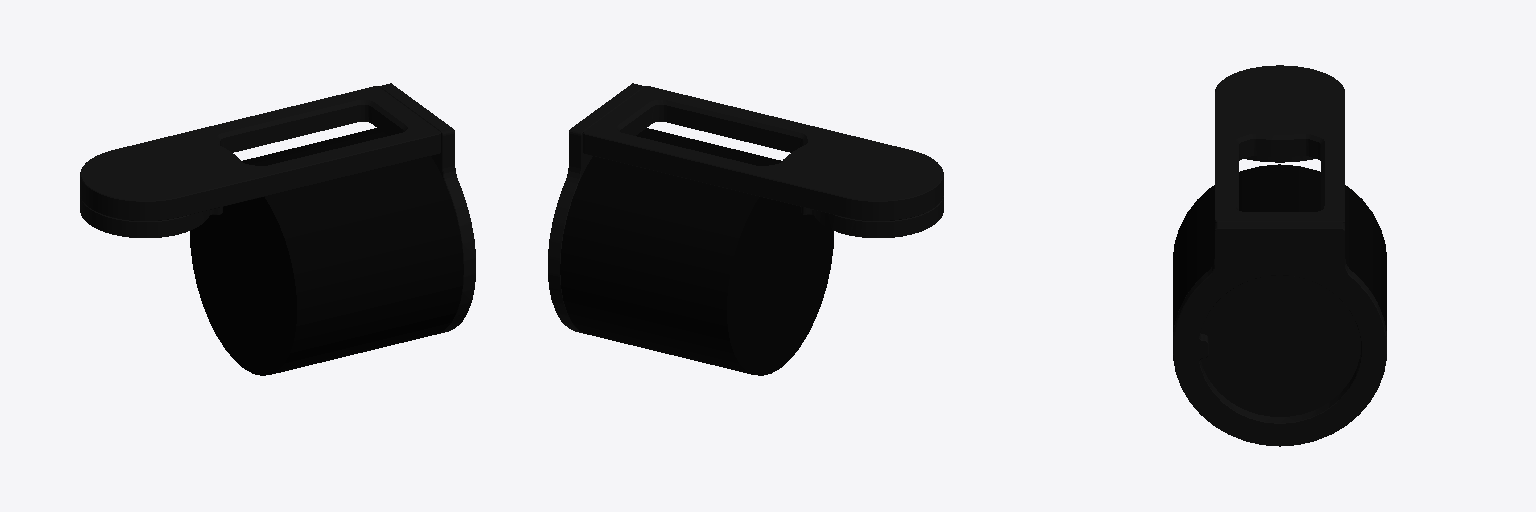
The picture shows the model from 3 angles: view 1: azimuth 30°, elevation 25°; view 2: azimuth 150°, elevation 25°; view 3: azimuth 270°, elevation 25°; orthographic projection.
Parts seen in each view (by area): view 1: arm_link5; view 2: arm_link5; view 3: arm_link5.
Boxes of the visible parts, x1=… form: arm_link5: x1=80, y1=83, x2=475, y2=375; arm_link5: x1=548, y1=83, x2=943, y2=375; arm_link5: x1=1173, y1=65, x2=1386, y2=446.
Size of the model in its own units: 0.1023 by 0.064 by 0.057.